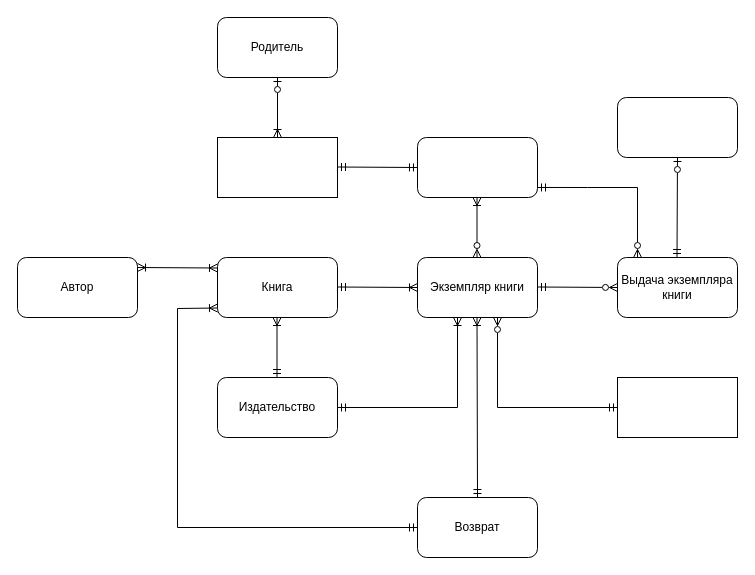
The diagram is 755 pixels wide and 575 high, and some of its shapes have lost their labels. The box of each missing label's shape, as (x1, y1, x2, y2) in pixels:
Библиотекарь: (616, 376, 738, 438)
Оплата: (616, 96, 738, 158)
Читатель: (216, 136, 338, 198)
Читательский билет: (416, 136, 538, 198)
